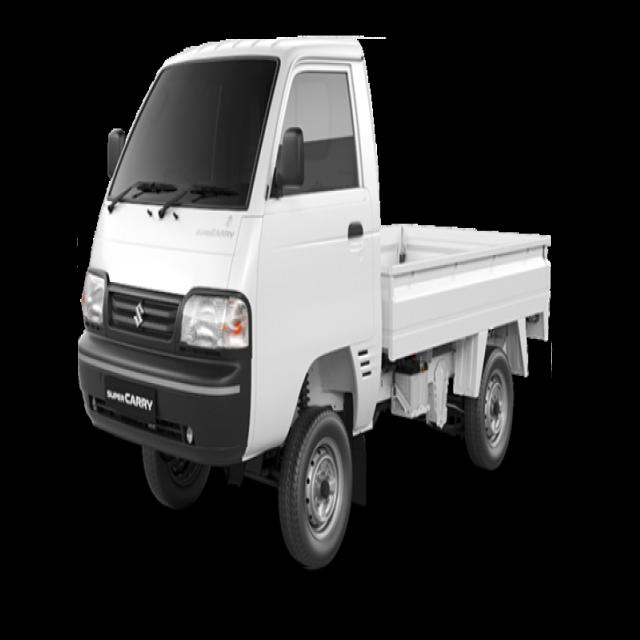truck: (78, 40, 551, 567)
